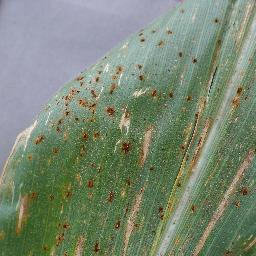Gray_Leaf_Spot: (56, 52, 146, 145), (183, 97, 231, 181), (49, 166, 89, 256), (108, 177, 144, 249), (167, 164, 194, 227), (225, 144, 256, 197), (69, 143, 107, 177), (11, 185, 36, 232), (129, 19, 164, 48), (211, 15, 232, 59), (225, 0, 244, 48), (220, 233, 254, 256), (228, 83, 249, 118), (188, 231, 216, 256), (201, 201, 224, 231), (9, 129, 34, 156), (138, 125, 154, 166), (70, 229, 94, 256), (31, 120, 48, 150), (146, 84, 176, 100), (7, 162, 19, 199), (85, 239, 110, 256), (154, 206, 175, 226), (119, 130, 133, 155), (189, 195, 202, 219), (170, 0, 191, 14), (86, 172, 98, 195), (233, 193, 246, 214), (111, 212, 128, 228), (235, 181, 250, 196), (189, 55, 202, 72), (50, 135, 60, 156), (178, 47, 185, 72), (165, 25, 178, 35), (0, 228, 6, 246)
